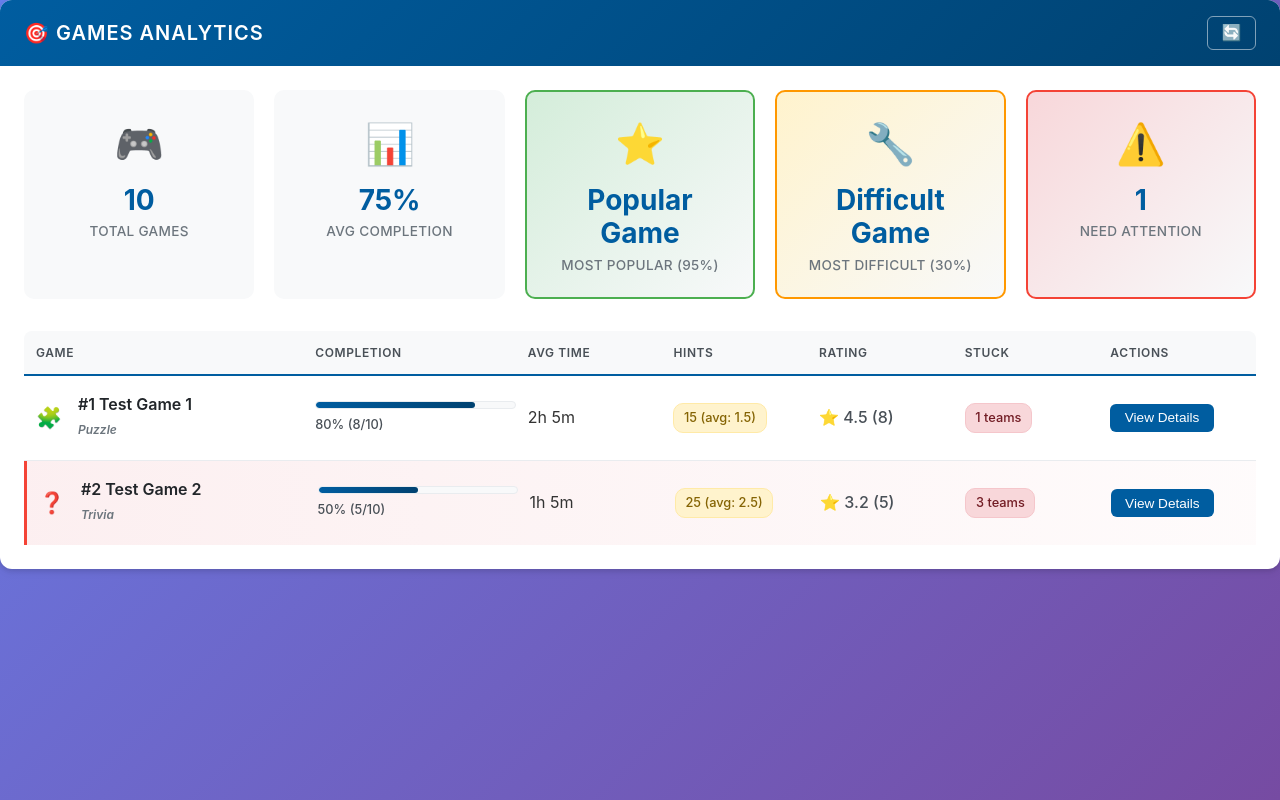
Test: GamesAnalyticsTab › Sorting Functionality › should toggle sort order on second click
Expected: the text "#1 Test Game 1" is shown, [78,392,192,418]
First click - descending
Click the text "COMPLETION". click: (359, 352)
box: [315,345,402,360]
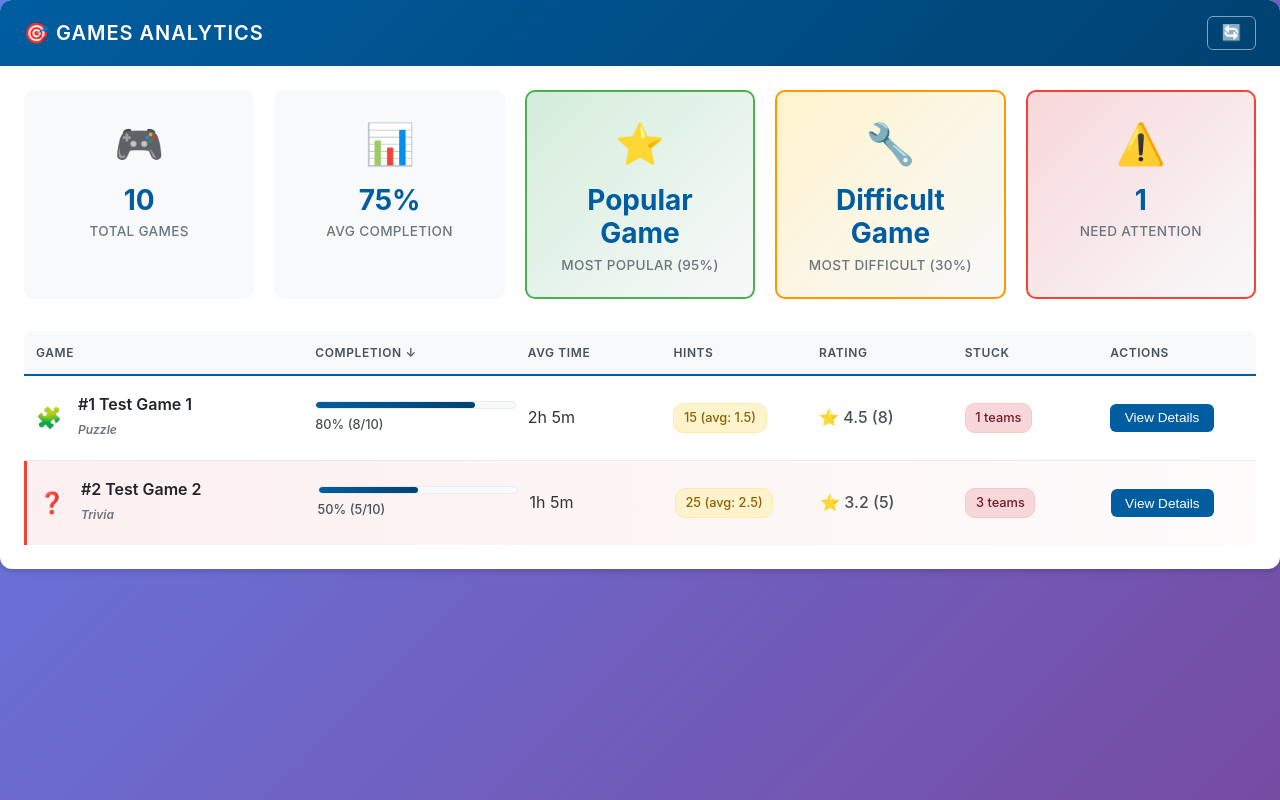
Expected: the text "COMPLETION ↓" is shown
Second click - ascending
Click the text "COMPLETION ↓". click: (366, 352)
box: [315,345,417,360]
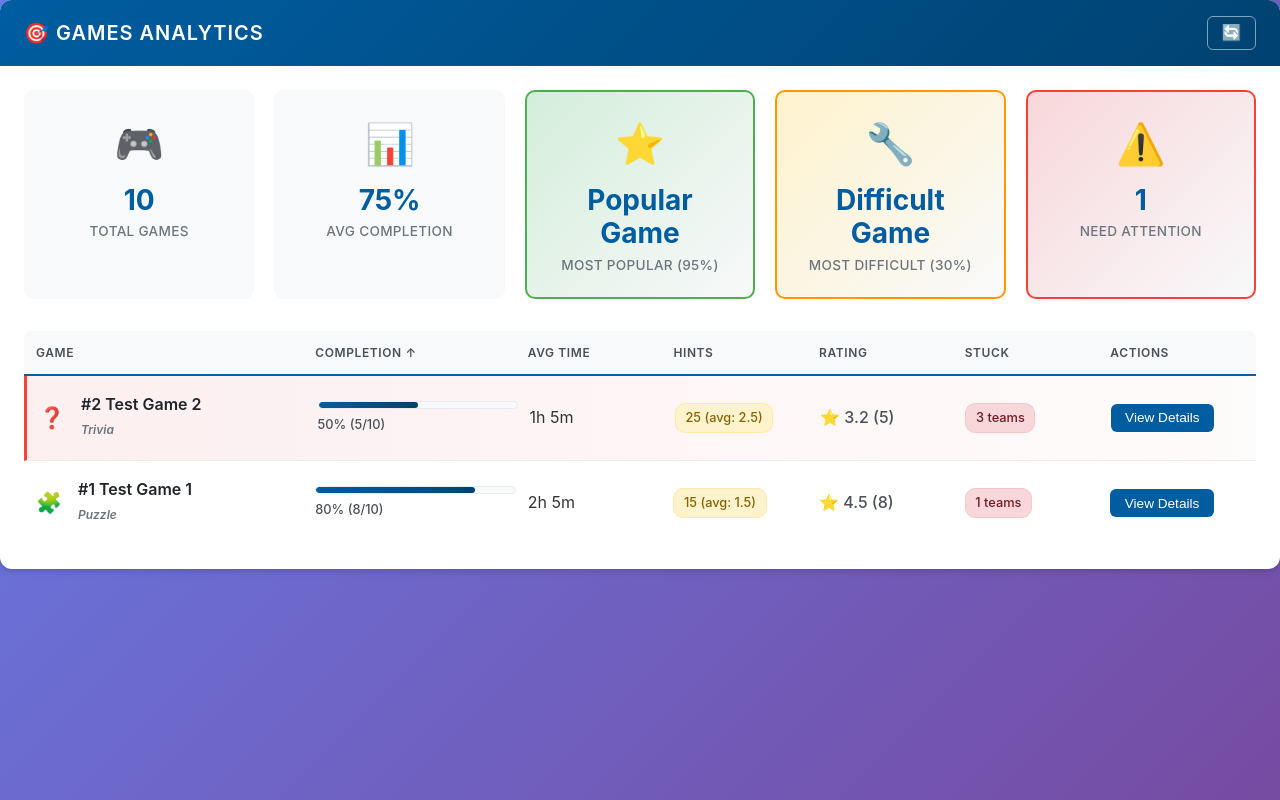
Expected: the text "COMPLETION ↑" is shown, [315,345,417,360]
